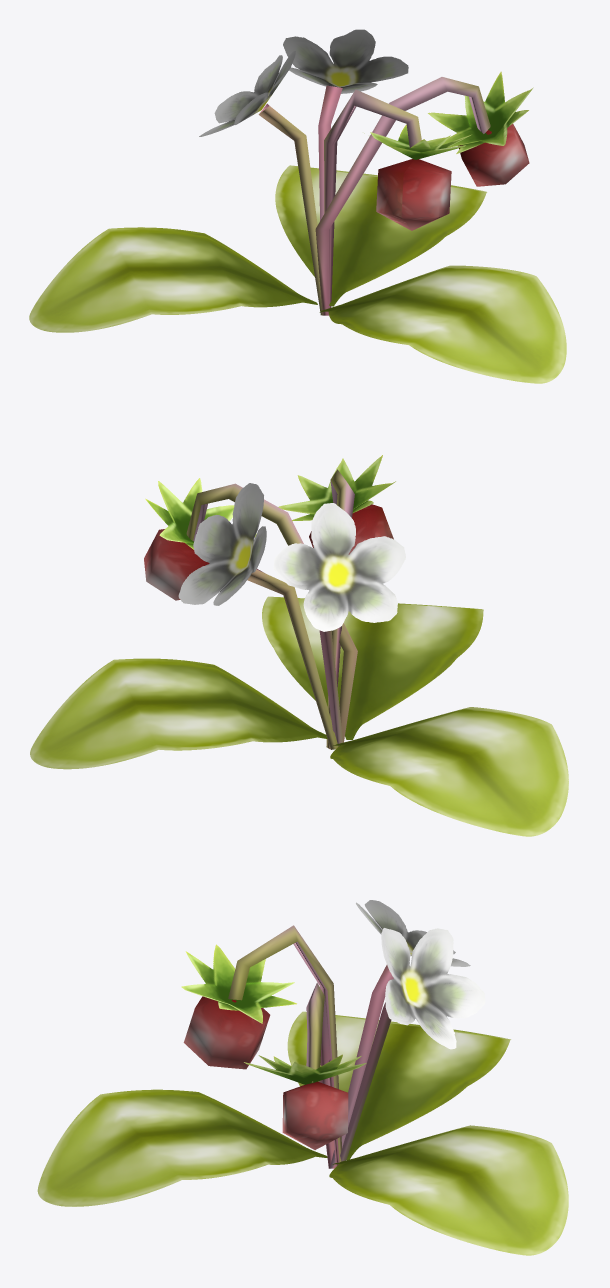
The model's file is FlowerSmall.FBX.
The picture shows the model from 3 angles, top to bottom: view 1: azimuth 30°, elevation 25°; view 2: azimuth 150°, elevation 25°; view 3: azimuth 270°, elevation 25°; orthographic projection. The views are drawn at different scales.
Visible parts, largest first — view 1: FlowerSmall; view 2: FlowerSmall; view 3: FlowerSmall.
Boxes of the visible parts, x1,y1,x2,y2 form: FlowerSmall: (29, 29, 566, 383); FlowerSmall: (30, 455, 568, 836); FlowerSmall: (37, 900, 568, 1255).
Size of the model in its own units: 109 by 57.31 by 105.
